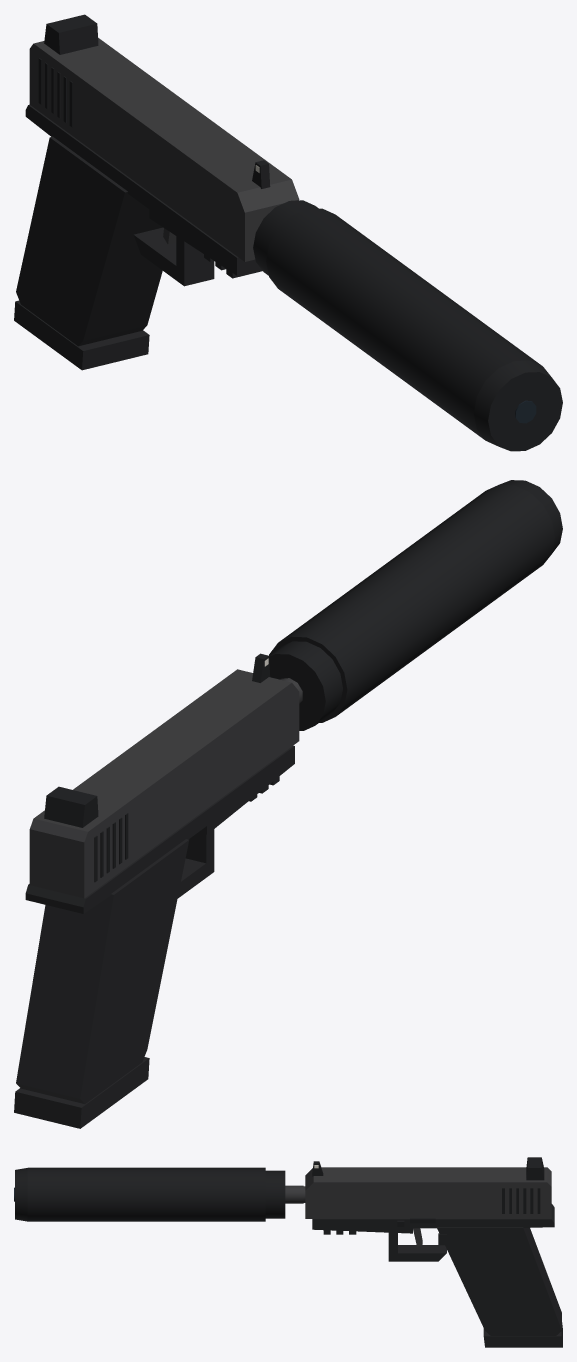
File: pistol-sd.glb
The picture shows the model from 3 angles, top to bottom: view 1: azimuth 30°, elevation 25°; view 2: azimuth 150°, elevation 25°; view 3: azimuth 270°, elevation 25°; orthographic projection. The views are drawn at different scales.
Visible parts, largest first — view 1: pistol-sd; view 2: pistol-sd; view 3: pistol-sd.
Part boxes in pixels (bbox=[...]): pistol-sd: bbox=[14, 14, 562, 451]; pistol-sd: bbox=[14, 480, 562, 1128]; pistol-sd: bbox=[14, 1157, 562, 1347].
Bounding box in the file's own units: 0.038 × 0.137 × 0.3876.
1 material, 1 textured.
